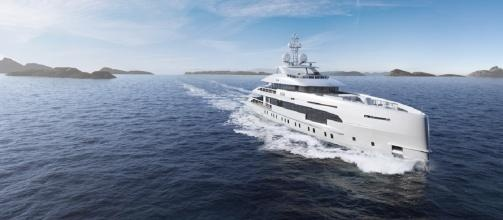yacht: (251, 35, 439, 171)
